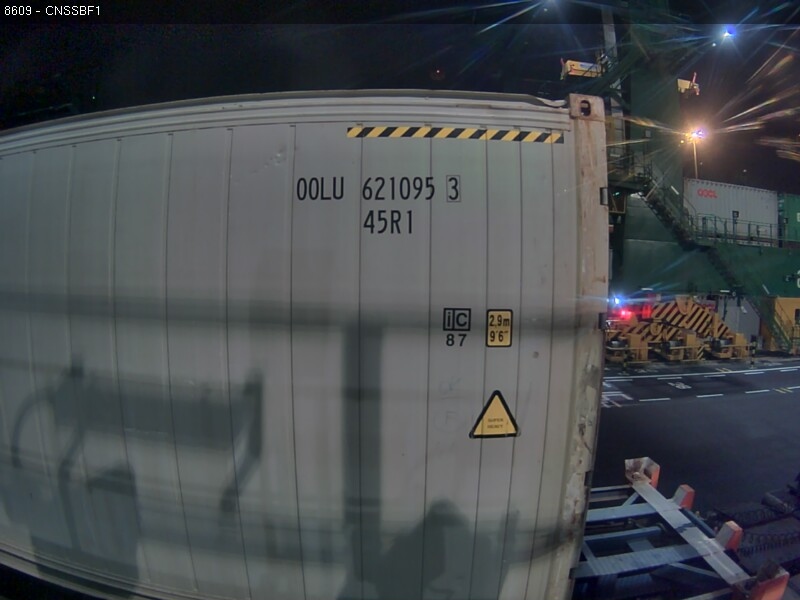container_no_door: (206, 86, 613, 570)
